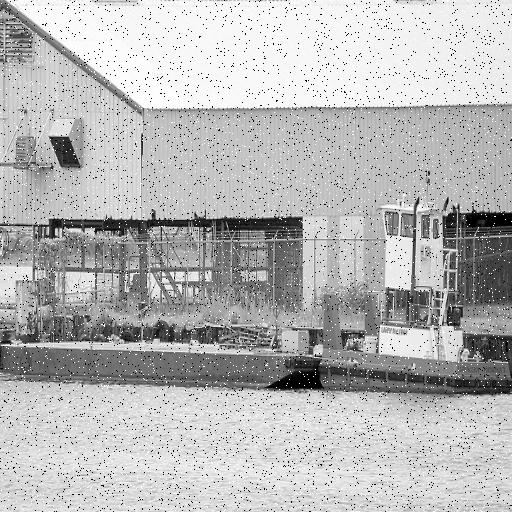tugboat: (315, 167, 512, 411)
